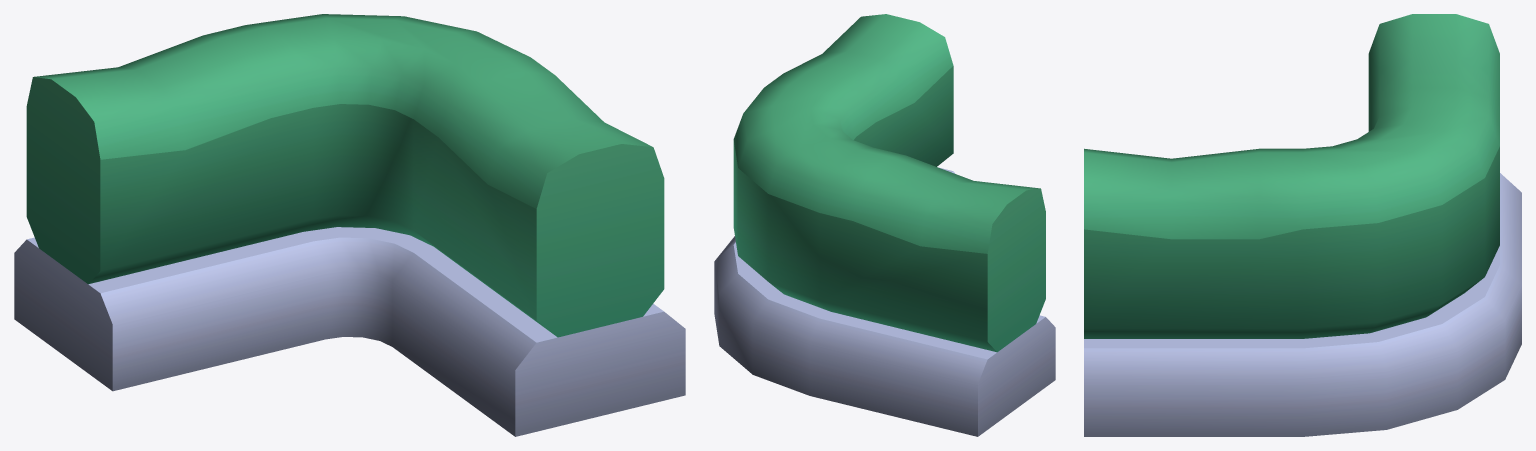
The model's file is kenney-fantasy-town-hedge-large-curved.glb.
3 renders of one model, left to right at view 1: azimuth 30°, elevation 25°; view 2: azimuth 150°, elevation 25°; view 3: azimuth 270°, elevation 25°, orthographic. The views are drawn at different scales.
Visible parts, largest first — view 1: hedge-large-curved; view 2: hedge-large-curved; view 3: hedge-large-curved.
Boxes of the visible parts, x1,y1,x2,y2 form: hedge-large-curved: (14,14,685,436); hedge-large-curved: (714,14,1055,436); hedge-large-curved: (1084,14,1521,436).
Bounding box in the file's own units: 1 × 0.6001 × 1.
1 material, 1 textured.
